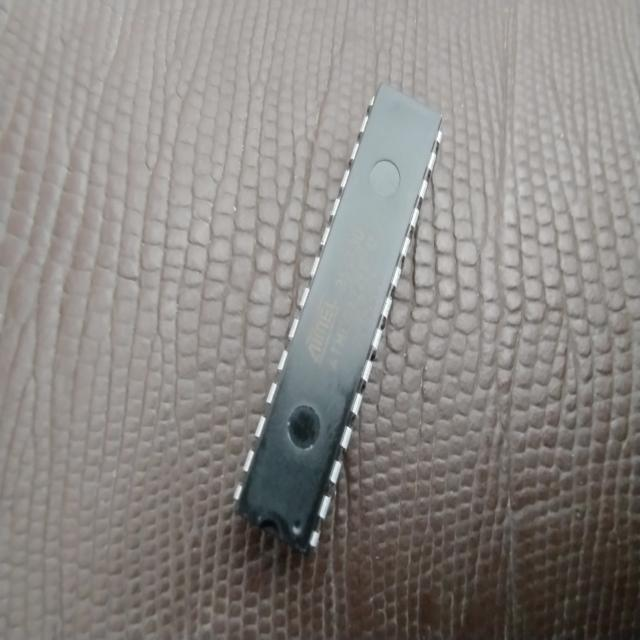atmega: (230, 79, 445, 556)
